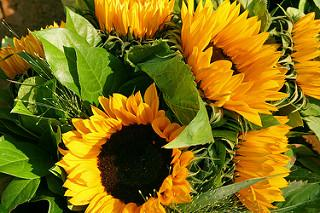sunflower: (59, 89, 196, 213), (179, 0, 286, 123), (234, 125, 292, 213), (93, 0, 174, 43), (288, 14, 320, 99)
